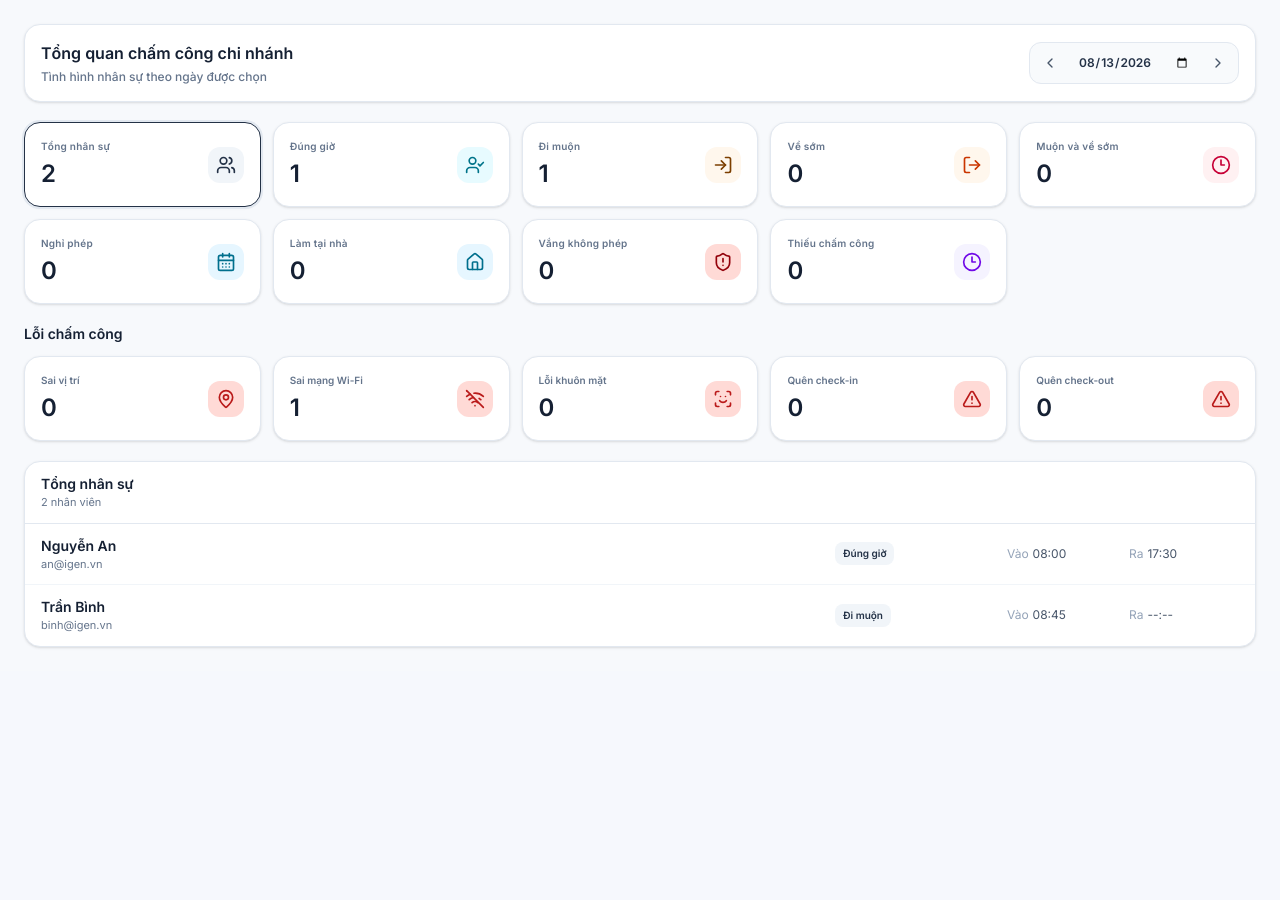
AttendanceDailyOverview › opens employees affected by an attendance error
What coordinates should you click on to do the following:
click the button with aria-label "Sai mạng Wi-Fi: 1"
I would click on:
 (391, 398)
Its box is [273, 356, 510, 441].
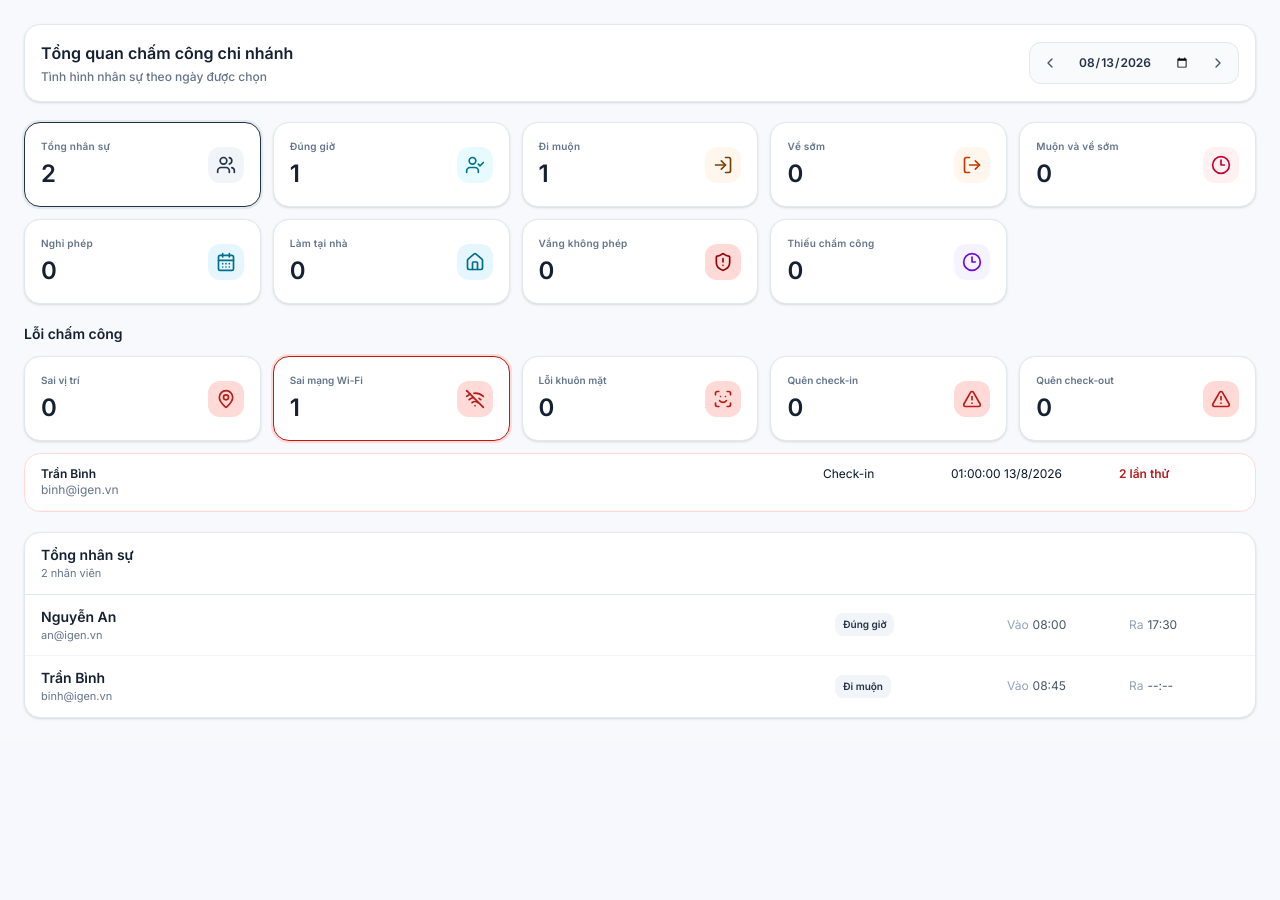
Expected: the text "2 lần thử" is shown, [1119, 466, 1169, 481]
